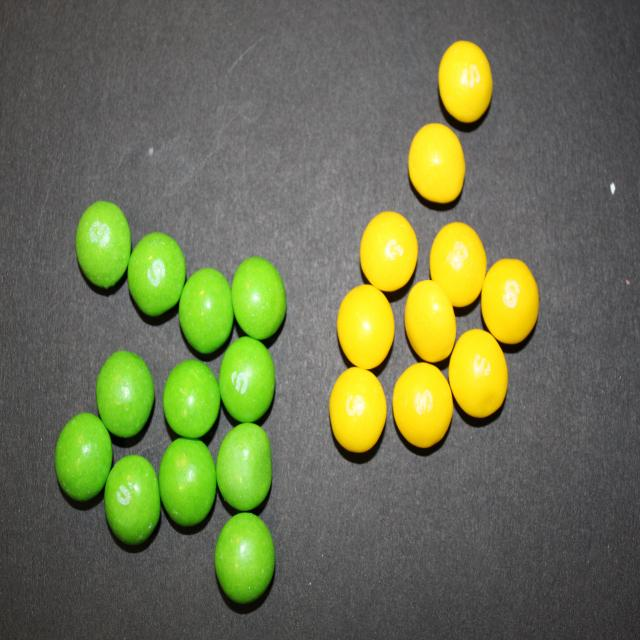smartie: (214, 513, 275, 604), (449, 329, 509, 418), (393, 362, 454, 448), (158, 438, 216, 527), (95, 351, 154, 438), (103, 455, 160, 545), (54, 413, 111, 501), (482, 258, 540, 344), (337, 284, 395, 369), (216, 423, 272, 511), (330, 367, 387, 453), (127, 232, 185, 316), (75, 200, 130, 288), (219, 336, 275, 422), (430, 222, 487, 306), (178, 267, 233, 353), (162, 359, 220, 439), (360, 211, 418, 291), (231, 256, 286, 339), (409, 122, 466, 202), (439, 39, 493, 122), (405, 279, 457, 362)
